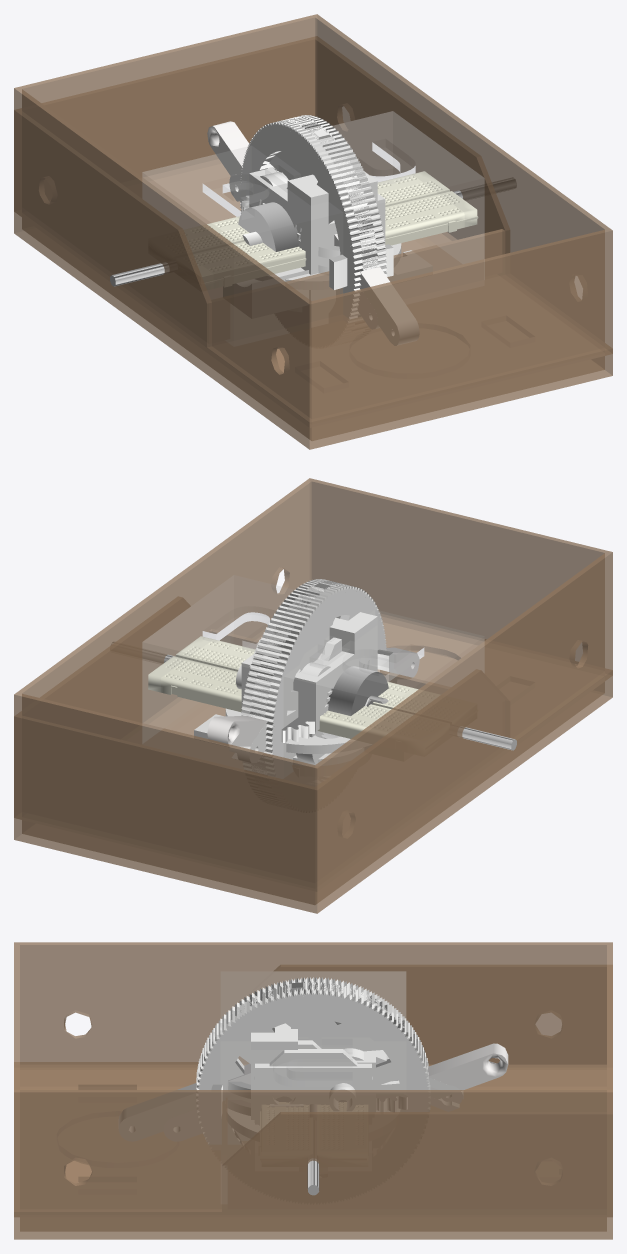
Rendered from Eevah.glb.
3 renders of one model, top to bottom at view 1: azimuth 30°, elevation 25°; view 2: azimuth 150°, elevation 25°; view 3: azimuth 270°, elevation 25°, orthographic.
Parts seen in each view (by area): view 1: Chassis, Lid_and_Bin, PHU, Body2_4, Wheel, Base_(1), Arm, Wheel_1, Wheel_(2), Motor, Wheel_(1), Body1_20 (+6 smaller); view 2: Chassis, Lid_and_Bin, PHU, Body2_4, Wheel, Base_(1), Wheel_1, Arm, Motor, Wheel_(2), Wheel_(1), Rotation (+5 smaller); view 3: Chassis, Lid_and_Bin, Wheel_(1), Arm, PHU, Body1_20, Wheel_(2), Base_(1), Body2_20, Arm_(1), Wheel, Wheel_1 (+4 smaller).
Boxes of the visible parts, x1,y1,x2,y2 form: Chassis: [14, 14, 612, 449]; Lid_and_Bin: [14, 36, 612, 427]; PHU: [143, 111, 483, 244]; Body2_4: [184, 171, 477, 289]; Wheel: [240, 117, 378, 317]; Base_(1): [249, 168, 377, 300]; Arm: [207, 121, 419, 345]; Wheel_1: [240, 117, 377, 318]; Wheel_(2): [268, 115, 386, 316]; Motor: [238, 202, 298, 251]; Wheel_(1): [273, 115, 386, 275]; Body1_20: [223, 193, 432, 298]; Chassis: [14, 478, 612, 913]; Lid_and_Bin: [14, 596, 612, 891]; PHU: [143, 575, 483, 727]; Body2_4: [148, 636, 439, 743]; Wheel: [249, 581, 386, 778]; Base_(1): [249, 612, 377, 731]; Wheel_1: [249, 582, 386, 777]; Arm: [207, 647, 419, 746]; Motor: [321, 666, 388, 738]; Wheel_(2): [241, 579, 345, 768]; Wheel_(1): [241, 579, 346, 773]; Rotation: [225, 708, 371, 753]; Chassis: [14, 942, 612, 1239]; Lid_and_Bin: [14, 965, 612, 1217]; Wheel_(1): [196, 981, 430, 1144]; Arm: [119, 1043, 508, 1141]; PHU: [221, 972, 405, 1087]; Body1_20: [255, 1063, 371, 1124]; Wheel_(2): [196, 981, 430, 1144]; Base_(1): [251, 1023, 375, 1119]; Body2_20: [254, 1049, 372, 1100]; Arm_(1): [164, 1049, 463, 1141]; Wheel: [196, 977, 428, 1088]; Wheel_1: [197, 977, 428, 1076].
Bounding box in the file's own units: 7864 × 3932 × 10038.
